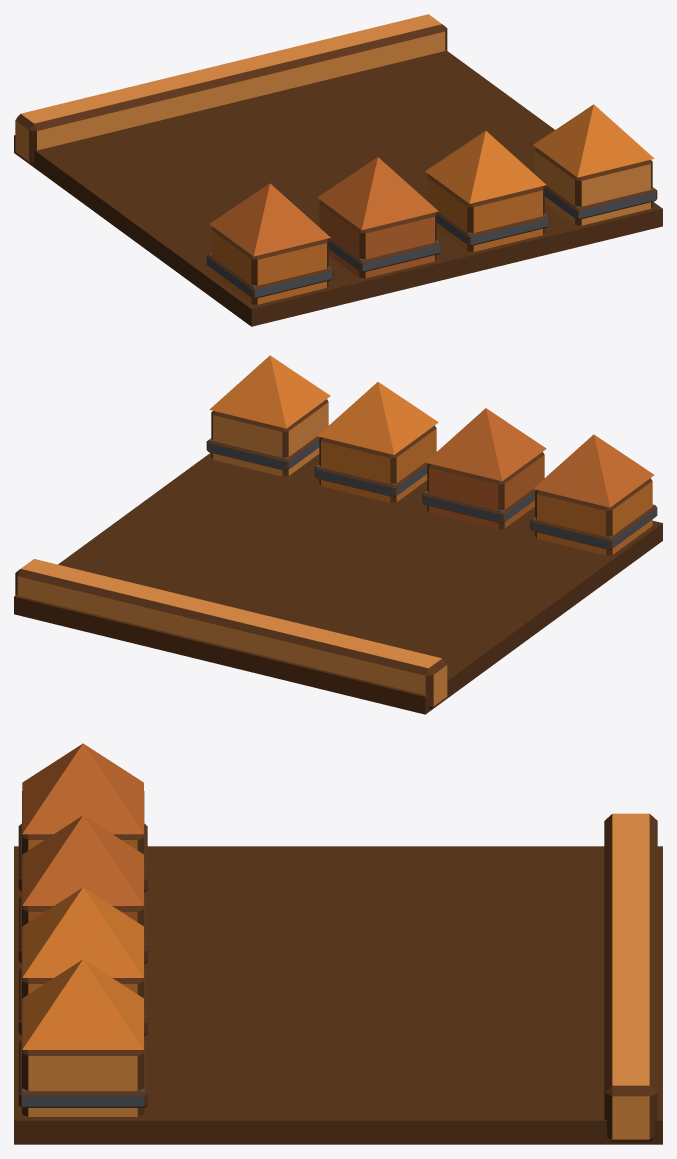
File: block_wood_cap_wall.glb
3 renders of one model, top to bottom at view 1: azimuth 30°, elevation 25°; view 2: azimuth 150°, elevation 25°; view 3: azimuth 270°, elevation 25°, orthographic. The views are drawn at different scales.
Visible parts, largest first — view 1: WoodCapWall; view 2: WoodCapWall; view 3: WoodCapWall.
Boxes of the visible parts, x1=… form: WoodCapWall: x1=14, y1=14, x2=662, y2=326; WoodCapWall: x1=14, y1=355, x2=662, y2=714; WoodCapWall: x1=14, y1=743, x2=662, y2=1144.
Size of the model in its own units: 1.24 by 0.324 by 1.22.
